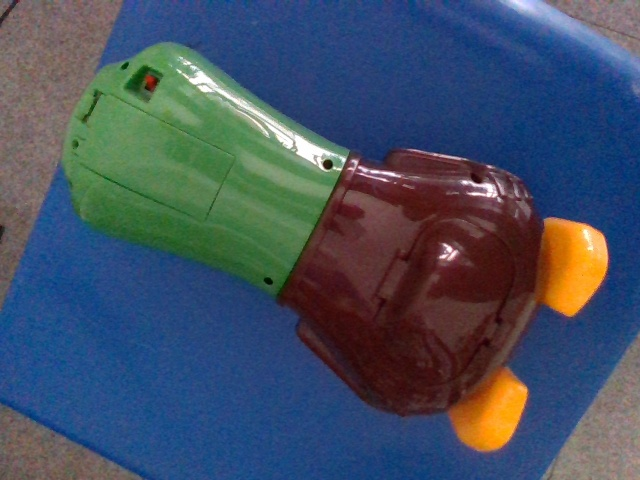screw hole: (471, 170, 483, 184), (322, 159, 333, 170), (265, 276, 273, 284), (71, 140, 78, 149), (122, 61, 128, 69)
toy: (61, 41, 609, 454)
